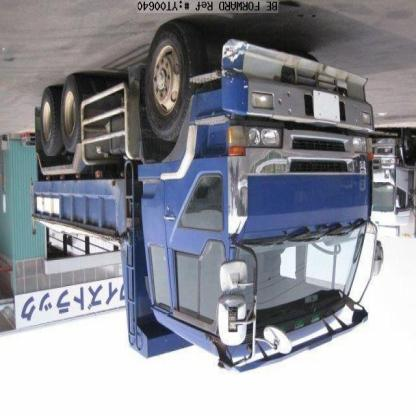truck: (31, 23, 383, 378)
